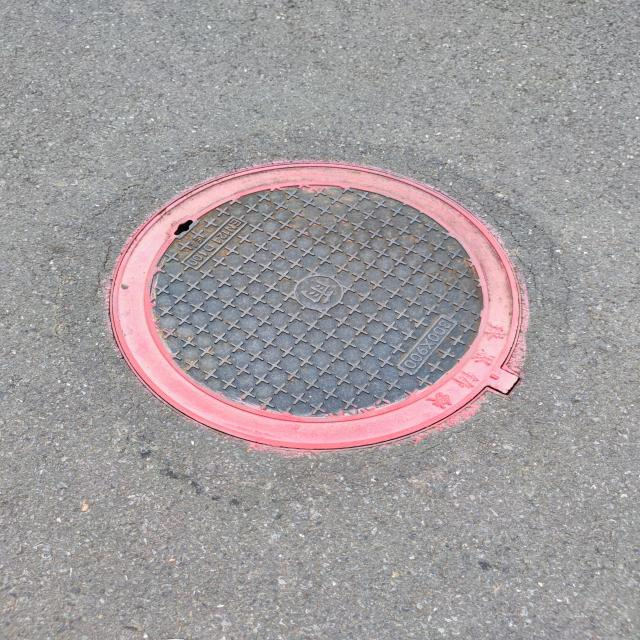Good: (108, 160, 539, 457)
